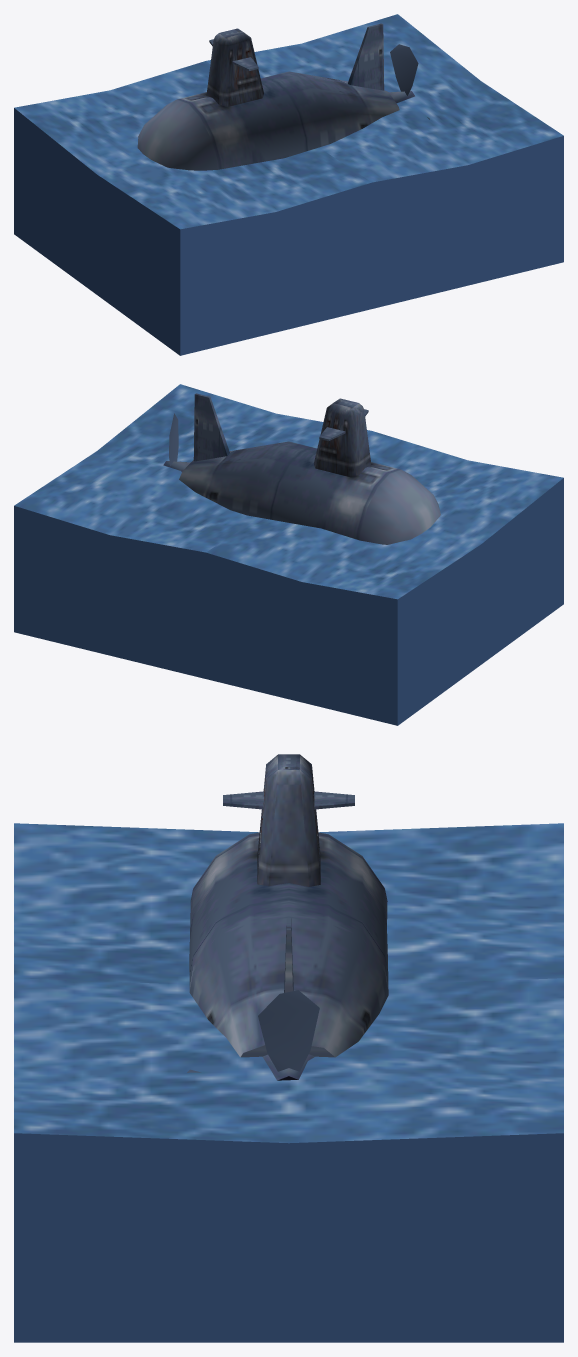
Rendered from ICON1.ICO.obj.
The picture shows the model from 3 angles, top to bottom: view 1: azimuth 30°, elevation 25°; view 2: azimuth 150°, elevation 25°; view 3: azimuth 270°, elevation 25°; orthographic projection. The views are drawn at different scales.
Bounding box in the file's own units: 5 × 2.85 × 3.75.
Materials: 1 (1 with a texture image).
